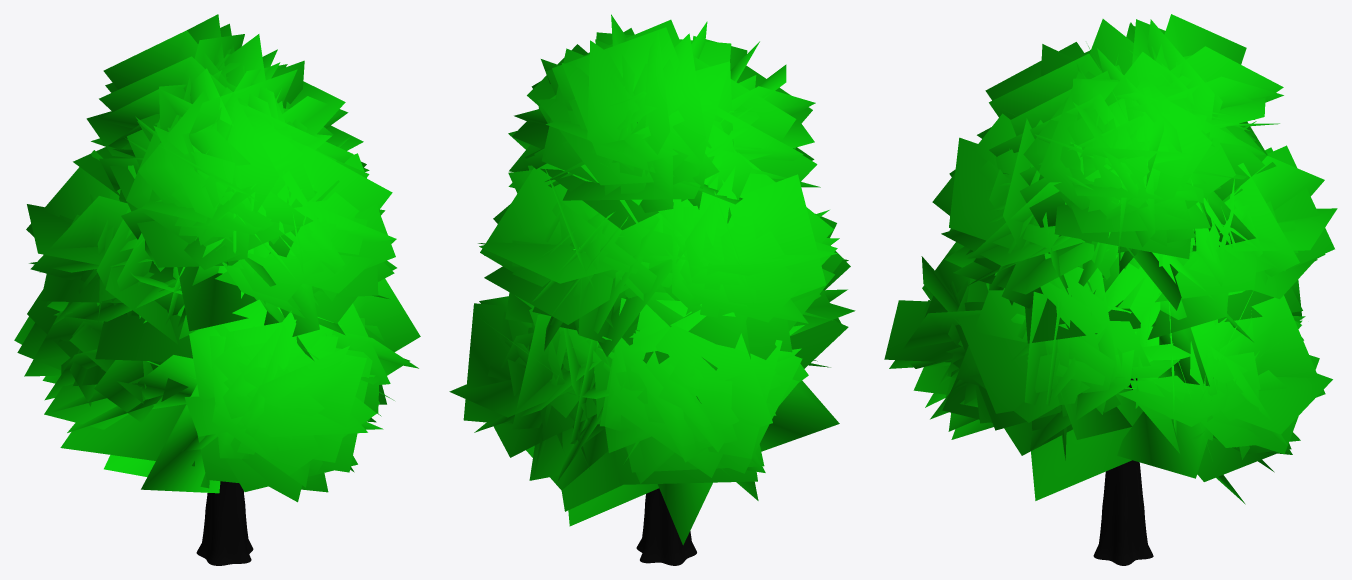
File: Tree It test 1.fbx
The picture shows the model from 3 angles, left to right: view 1: azimuth 30°, elevation 25°; view 2: azimuth 150°, elevation 25°; view 3: azimuth 270°, elevation 25°; orthographic projection. The views are drawn at different scales.
Parts seen in each view (by area): view 1: Tree_0; view 2: Tree_0; view 3: Tree_0.
Boxes of the visible parts, x1=… form: Tree_0: x1=14, y1=14, x2=420, y2=565; Tree_0: x1=449, y1=14, x2=855, y2=565; Tree_0: x1=884, y1=14, x2=1337, y2=565.
Bounding box in the file's own units: 85.12 × 128 × 99.23.
